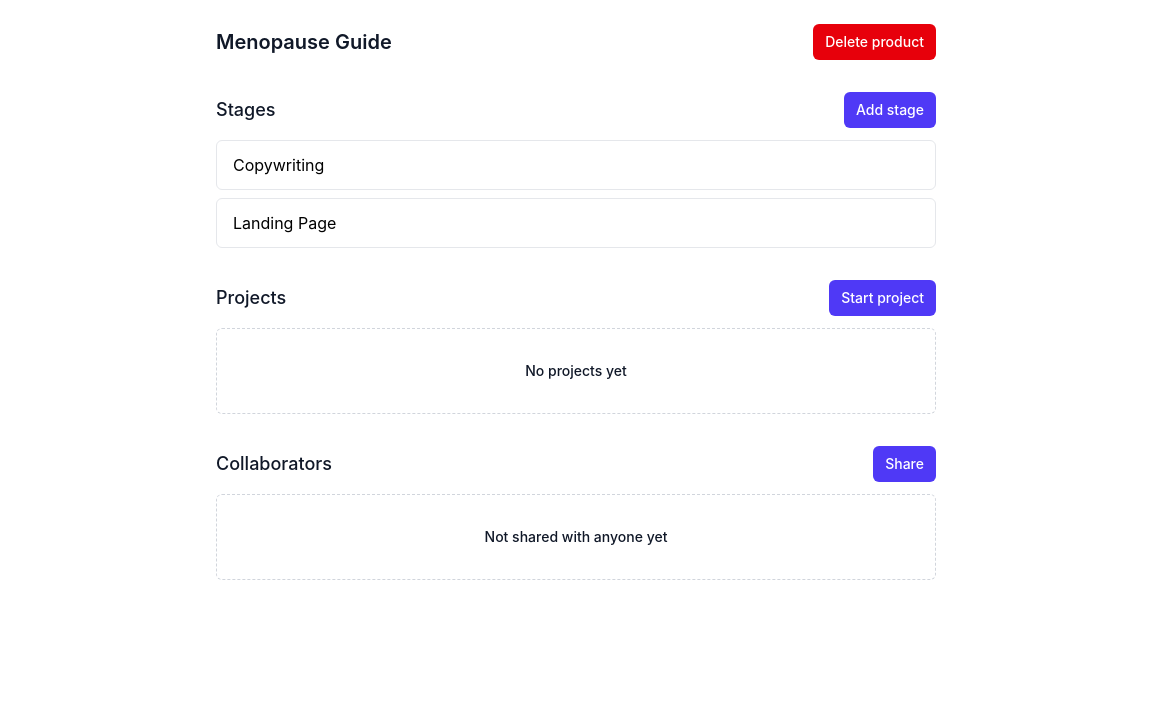
Test: ProductDetailPage › renders stages in the order returned by the API and validates the add-stage form (FR-6, FR-7, Scenario 5)
Click the button "Add stage" at (890, 110), box left=844, top=92, right=936, bottom=128
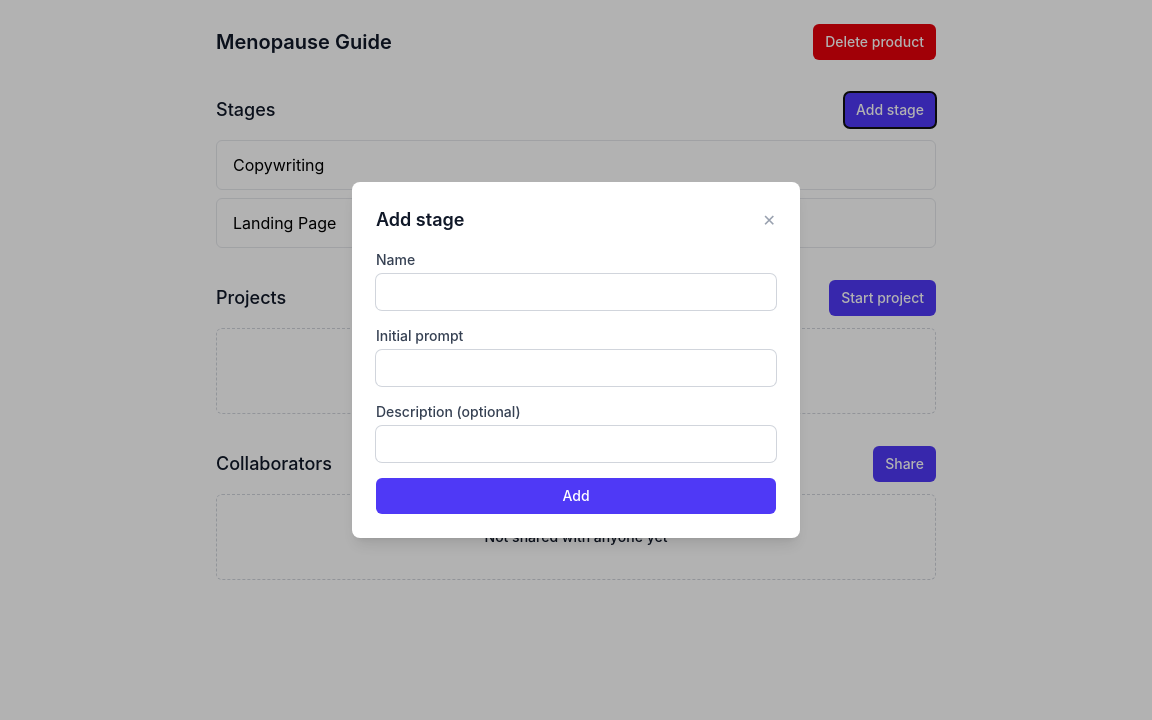
Click the button "Add" at (576, 496), box left=376, top=478, right=776, bottom=514
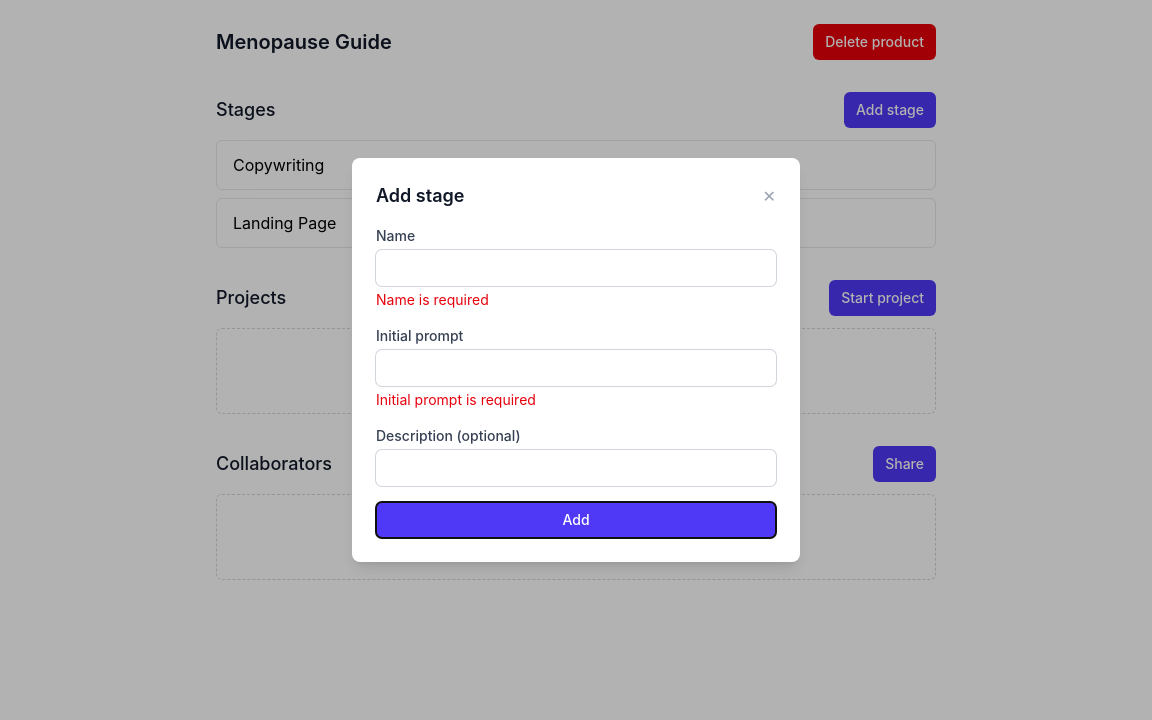
Check: the text "Name is required" is shown, box left=376, top=291, right=489, bottom=308
Check: the text "Initial prompt is required" is shown, box left=376, top=391, right=536, bottom=408
